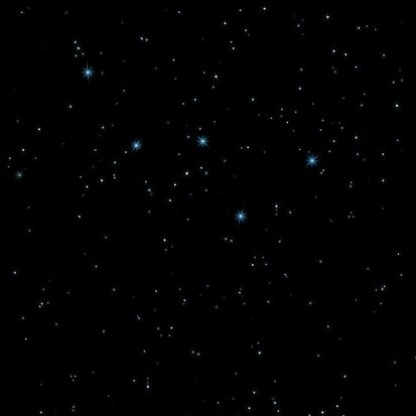Cassiopeia: (75, 59, 95, 81), (126, 133, 147, 151), (231, 205, 249, 225), (303, 149, 320, 167), (194, 132, 210, 149)
